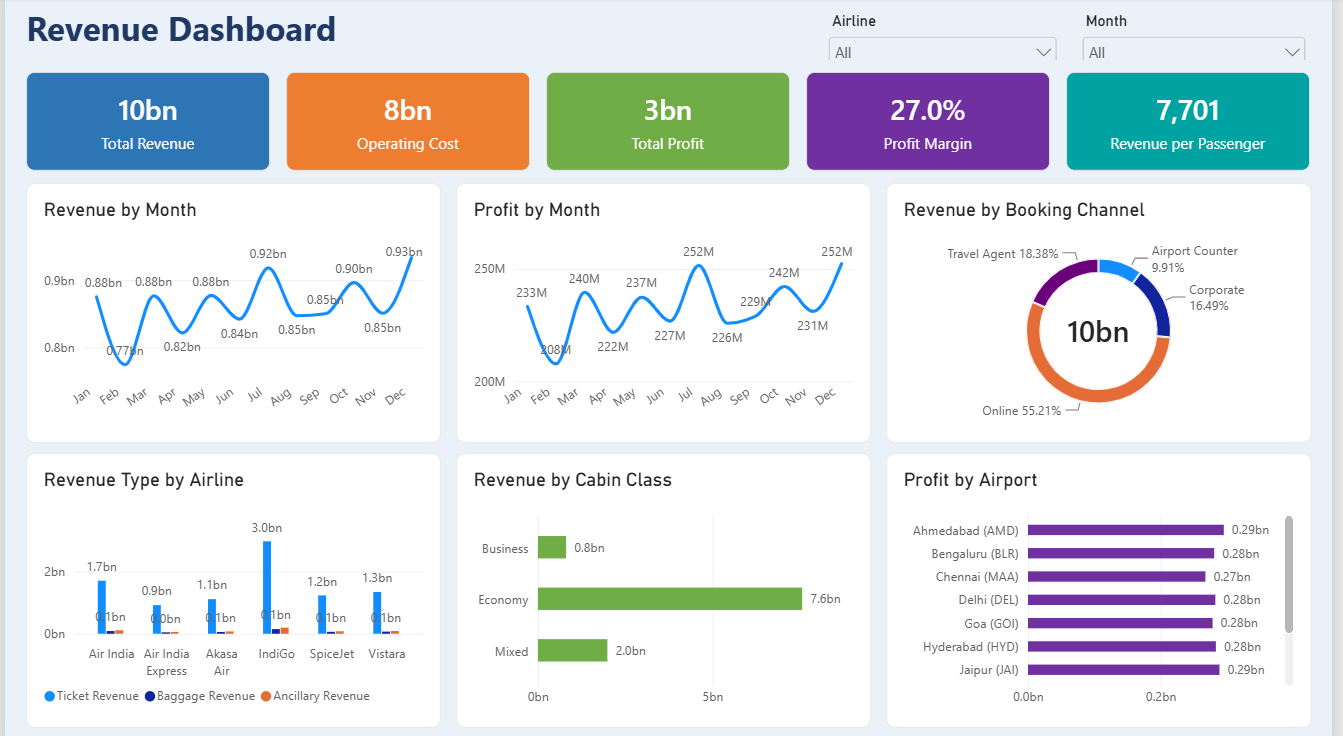

The dashboard page shown, as its layout file describes it:
{"tool":"powerbi","page":{"name":"Revenue Dashboard","canvas":[1280,720],"ordinal":8},"visuals":[{"type":"textbox","box":[20,8,700,56],"z":0},{"type":"slicer","fields":{"Values":["Flight_Data.Airline"]},"box":[790,14,230,46],"z":1000},{"type":"slicer","fields":{"Values":["Flight_Data.Month"]},"box":[1035,14,225,46],"z":2000},{"type":"card","fields":{"Values":["Flight_Data.Total Revenue"]},"box":[20,72,235.2,95],"z":3000},{"type":"card","fields":{"Values":["Flight_Data.Operating Cost"]},"box":[271.2,72,235.2,95],"z":4000},{"type":"card","fields":{"Values":["Flight_Data.Total Profit"]},"box":[522.4,72,235.2,95],"z":5000},{"type":"card","fields":{"Values":["Flight_Data.Profit Margin"]},"box":[773.6,72,235.2,95],"z":6000},{"type":"card","fields":{"Values":["Flight_Data.Revenue per Passenger"]},"box":[1024.8,72,235.2,95],"z":7000},{"type":"lineChart","title":"Revenue by Month","fields":{"Category":["Flight_Data.Month"],"Y":["Flight_Data.Total Revenue"]},"box":[20,180,400,250],"z":7000},{"type":"lineChart","title":"Profit by Month","fields":{"Category":["Flight_Data.Month"],"Y":["Flight_Data.Total Profit"]},"box":[435,180,400,250],"z":8000},{"type":"donutChart","title":"Revenue by Booking Channel","fields":{"Category":["Flight_Data.Booking_Channel"],"Y":["Flight_Data.Total Revenue"]},"box":[850,180,410,250],"z":9000},{"type":"clusteredColumnChart","title":"Revenue Type by Airline","fields":{"Category":["Flight_Data.Airline"],"Y":["Flight_Data.Ticket Revenue","Flight_Data.Baggage Revenue","Flight_Data.Ancillary Revenue"]},"box":[20,440,400,265],"z":10000},{"type":"clusteredBarChart","title":"Revenue by Cabin Class","fields":{"Category":["Flight_Data.Cabin_Class"],"Y":["Flight_Data.Total Revenue"]},"box":[435,440,400,265],"z":11000},{"type":"clusteredBarChart","title":"Profit by Airport","fields":{"Category":["Flight_Data.Origin_Airport"],"Y":["Flight_Data.Total Profit"]},"box":[850,440,410,265],"z":12000}]}

Visuals, with their boxes in screenshot pixels (x1, y1, x2, y2), scaled from the page's 1280x720 canvas onto the 1343x736 screenshot:
textbox: 21,8,755,65
slicer - Flight_Data.Airline: 829,14,1070,61
slicer - Flight_Data.Month: 1086,14,1322,61
card - Flight_Data.Total Revenue: 21,74,268,171
card - Flight_Data.Operating Cost: 285,74,531,171
card - Flight_Data.Total Profit: 548,74,795,171
card - Flight_Data.Profit Margin: 812,74,1058,171
card - Flight_Data.Revenue per Passenger: 1075,74,1322,171
"Revenue by Month" lineChart: 21,184,441,440
"Profit by Month" lineChart: 456,184,876,440
"Revenue by Booking Channel" donutChart: 892,184,1322,440
"Revenue Type by Airline" clusteredColumnChart: 21,450,441,721
"Revenue by Cabin Class" clusteredBarChart: 456,450,876,721
"Profit by Airport" clusteredBarChart: 892,450,1322,721
